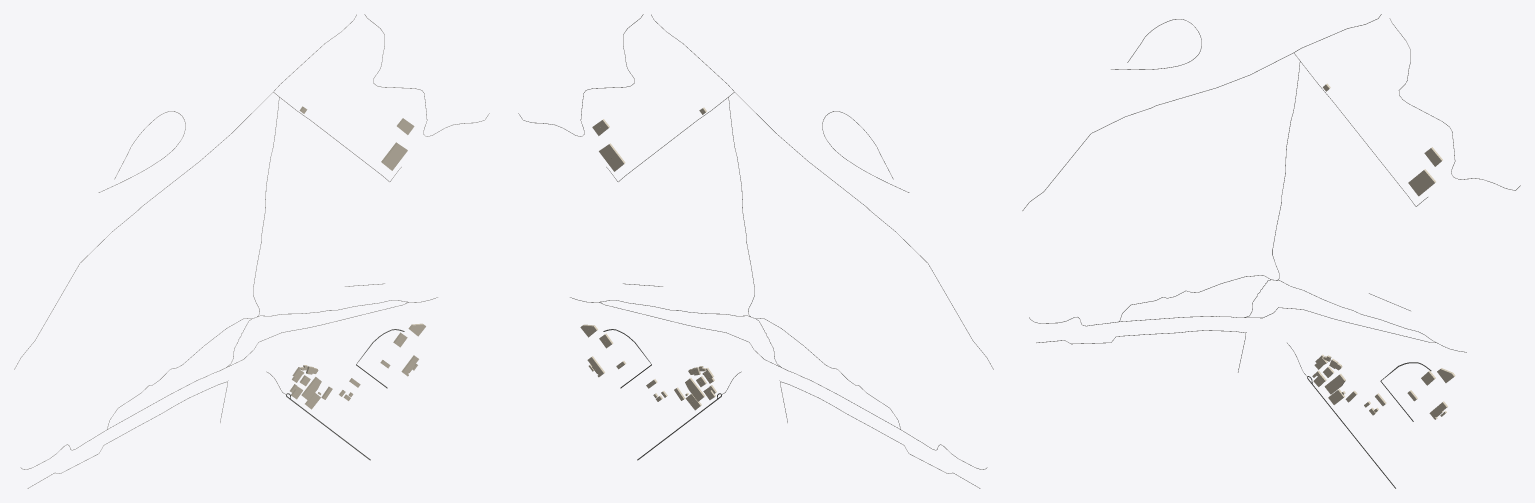
File: historic-palestine-07_27_3488_3211.glb
3 renders of one model, left to right at view 1: azimuth 30°, elevation 25°; view 2: azimuth 150°, elevation 25°; view 3: azimuth 330°, elevation 25°, orthographic. The views are drawn at different scales.
Bounding box in the file's own units: 1614 × 1458 × 8.7.
